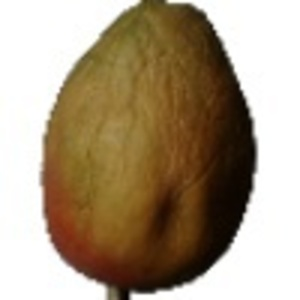mamão: (31, 3, 261, 291)
